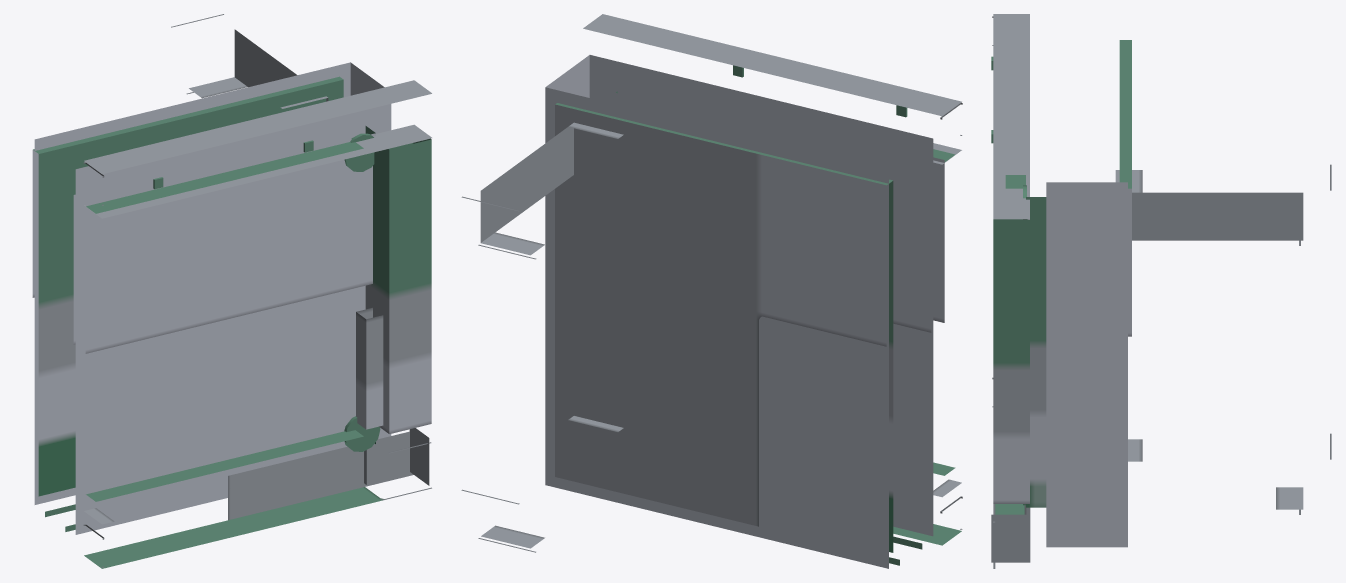
The model's file is section-1.obj.
3 views of the same model, side by side, from view 1: azimuth 30°, elevation 25°; view 2: azimuth 150°, elevation 25°; view 3: azimuth 270°, elevation 25° (orthographic). The views are drawn at different scales.
Size of the model in its own units: 0.9345 by 1.07 by 0.835.
